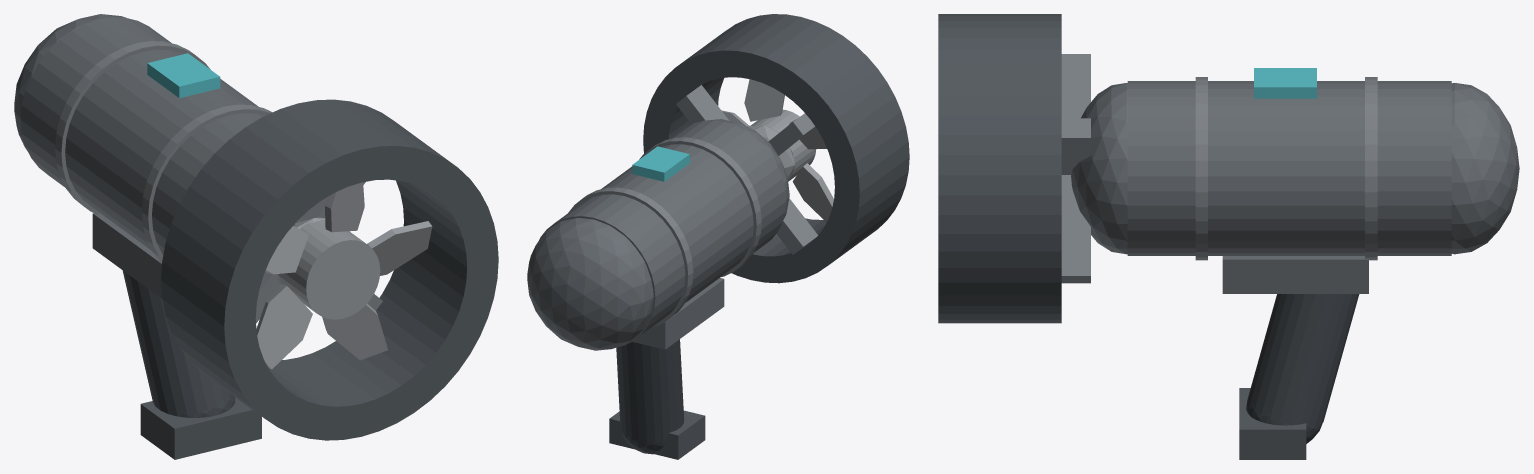
File: handheld_underwater_thruster.glb
3 views of the same model, side by side, from view 1: azimuth 30°, elevation 25°; view 2: azimuth 150°, elevation 25°; view 3: azimuth 270°, elevation 25° (orthographic). The views are drawn at different scales.
Parts seen in each view (by area): view 1: MotorBody, Propeller; view 2: MotorBody, Propeller; view 3: MotorBody.
Part boxes in pixels (x1=…): MotorBody: x1=14, y1=14, x2=498, y2=459; Propeller: x1=256, y1=182, x2=432, y2=369; MotorBody: x1=527, y1=14, x2=909, y2=459; Propeller: x1=721, y1=79, x2=833, y2=222; MotorBody: x1=938, y1=14, x2=1519, y2=459.
Size of the model in its own units: 0.148 by 0.218 by 0.278.
